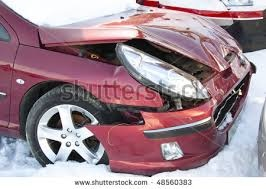Broken-glass: (118, 48, 211, 105)
Dent: (81, 26, 249, 129)
